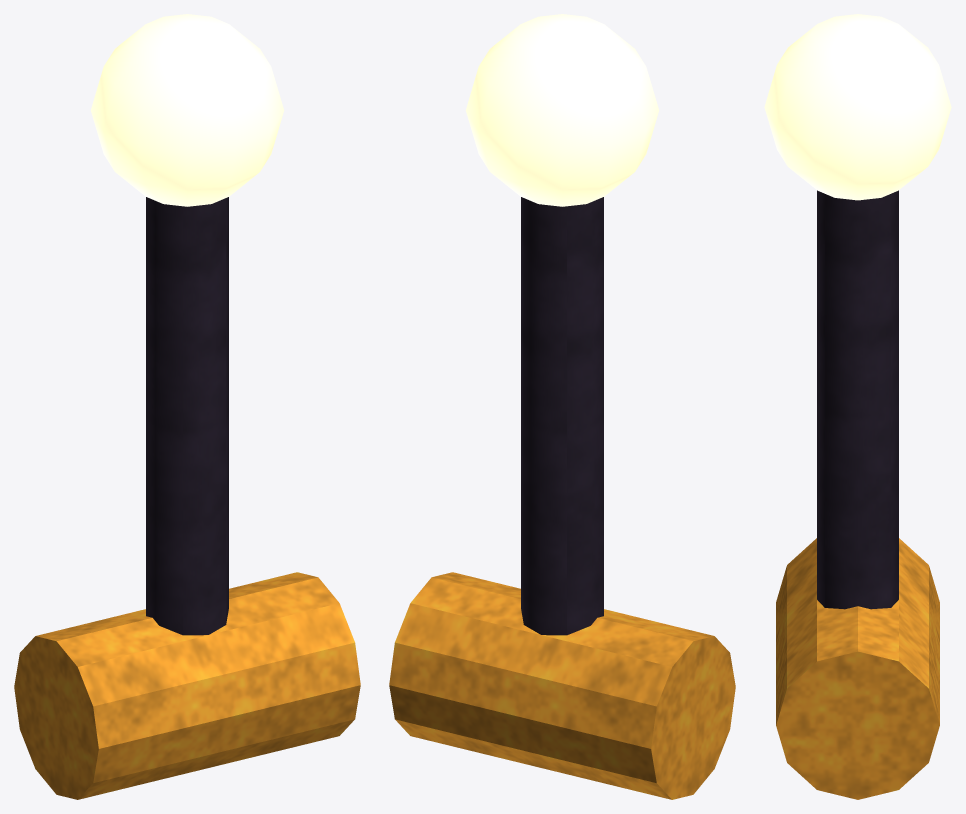
Rendered from CHO_ExitLeverArm.fbx.
3 renders of one model, left to right at view 1: azimuth 30°, elevation 25°; view 2: azimuth 150°, elevation 25°; view 3: azimuth 270°, elevation 25°, orthographic. The views are drawn at different scales.
Parts seen in each view (by area): view 1: CHO_ExitLeverArm; view 2: CHO_ExitLeverArm; view 3: CHO_ExitLeverArm.
Boxes of the visible parts, bbox=[...] form: CHO_ExitLeverArm: bbox=[14, 14, 360, 799]; CHO_ExitLeverArm: bbox=[389, 14, 735, 799]; CHO_ExitLeverArm: bbox=[764, 14, 951, 799].
Bounding box in the file's own units: 0.5 × 1.35 × 0.32.
